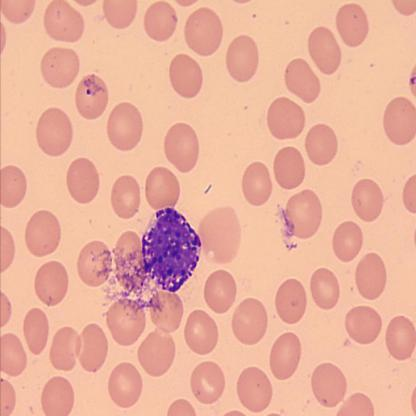Basophil: (140, 204, 203, 296)
